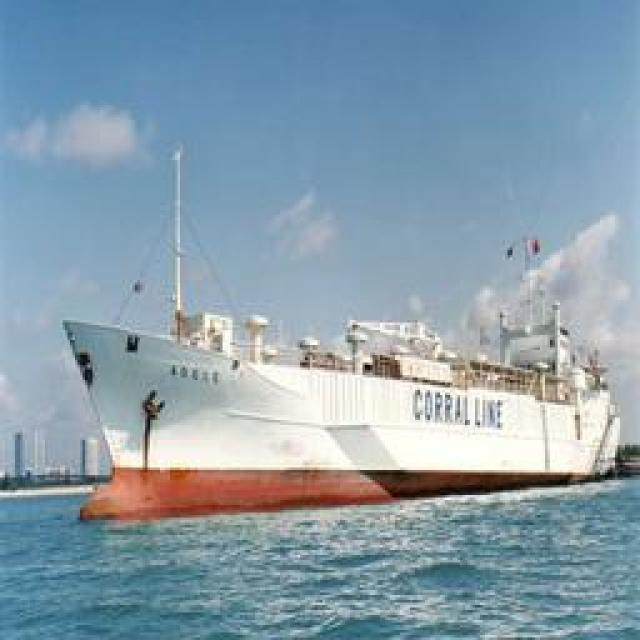ship2: (61, 145, 625, 524)
